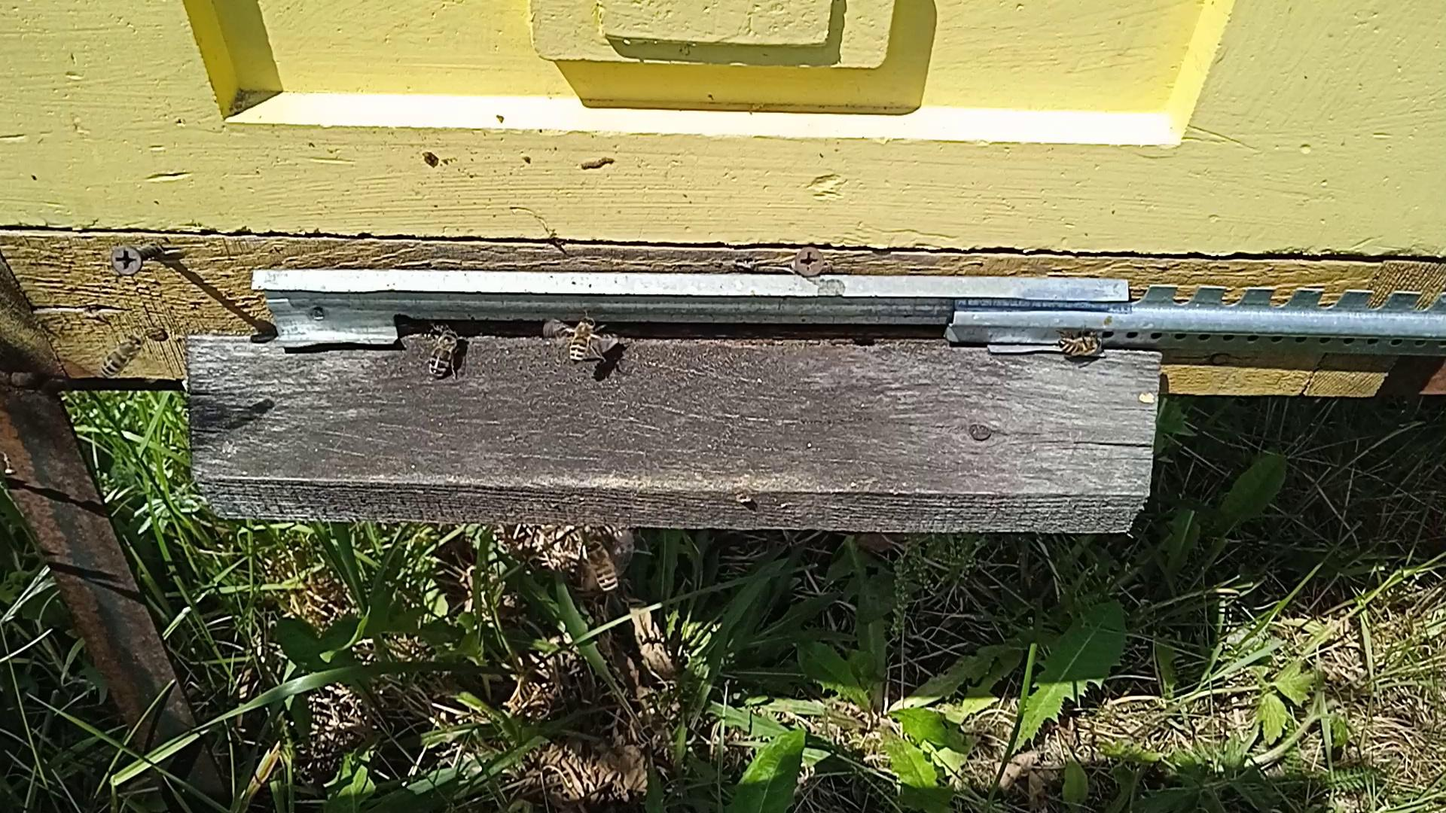worker-bee: (582, 542, 619, 594), (426, 327, 461, 379), (101, 335, 143, 378), (567, 315, 600, 363), (1056, 330, 1107, 358)
